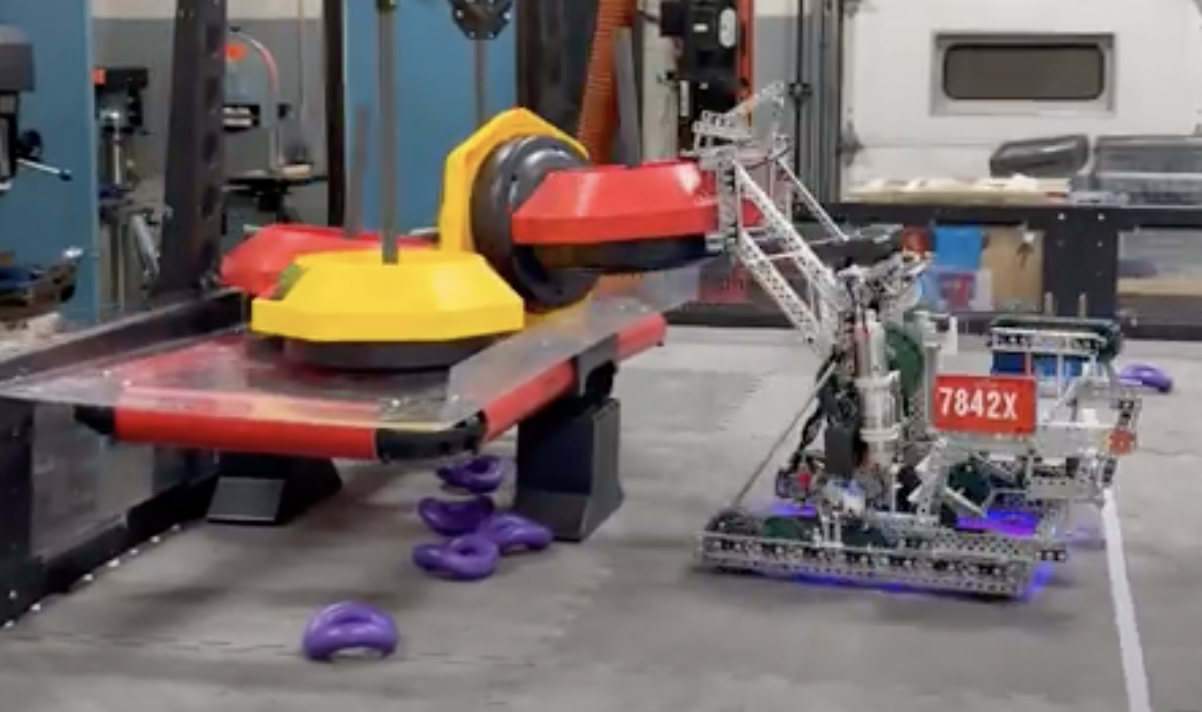ring: (304, 600, 399, 660), (470, 511, 555, 555), (414, 536, 497, 579), (416, 494, 493, 536), (435, 454, 507, 493), (1116, 357, 1173, 398)
